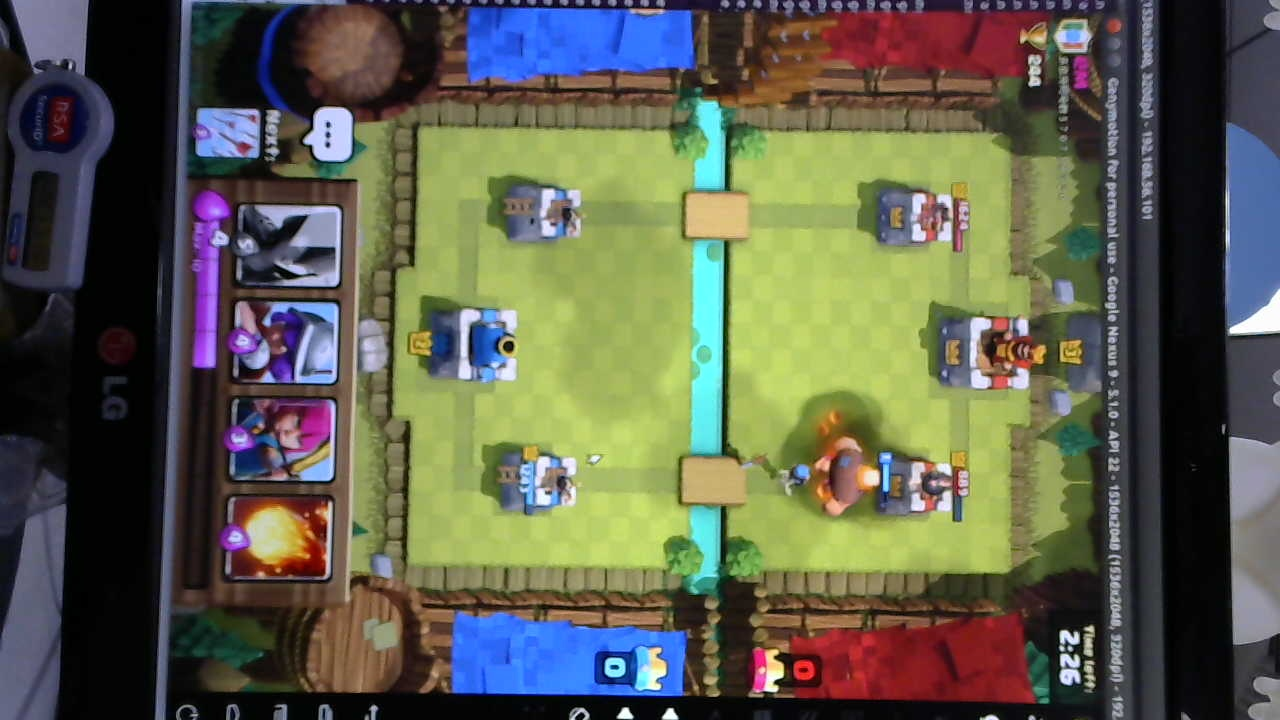arena: (502, 178, 584, 244), (501, 453, 580, 514)
bomb: (771, 460, 815, 497)
earena: (873, 185, 955, 249), (884, 456, 958, 520)
eking: (930, 318, 1040, 392)
giant: (816, 435, 880, 510)
king: (428, 302, 523, 387)
